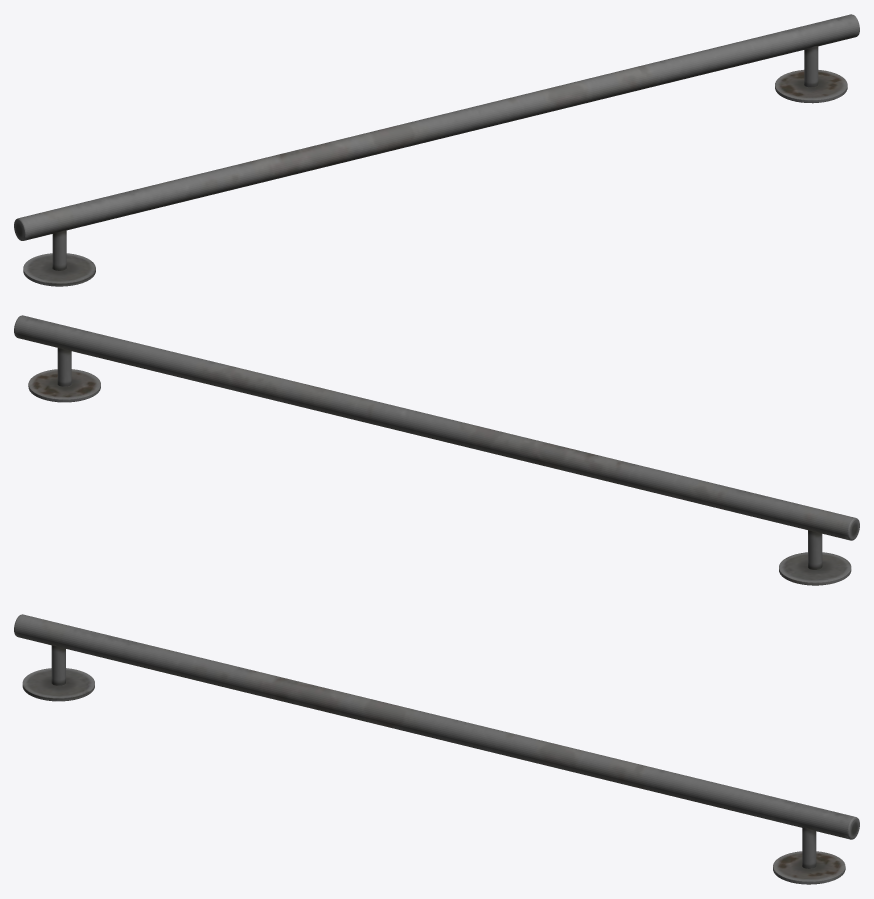
The model's file is corrimao2.fbx.
3 renders of one model, top to bottom at view 1: azimuth 30°, elevation 25°; view 2: azimuth 150°, elevation 25°; view 3: azimuth 330°, elevation 25°, orthographic.
Visible parts, largest first — view 1: Park Structure 04.Shape; view 2: Park Structure 04.Shape; view 3: Park Structure 04.Shape.
Boxes of the visible parts, x1=… form: Park Structure 04.Shape: x1=14, y1=14, x2=859, y2=286; Park Structure 04.Shape: x1=14, y1=315, x2=859, y2=585; Park Structure 04.Shape: x1=14, y1=614, x2=859, y2=884.
Bounding box in the file's own units: 551 × 38.9 × 41.52.
Materials: 1 (1 with a texture image).
